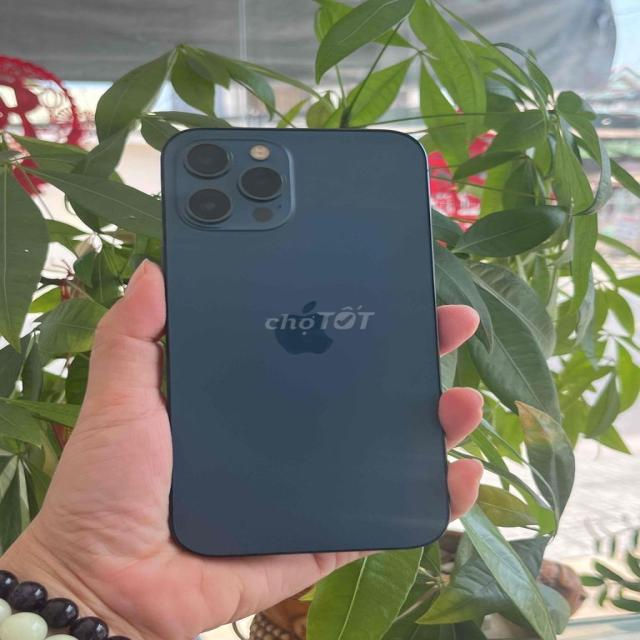gen_12_13: (152, 127, 456, 566)
